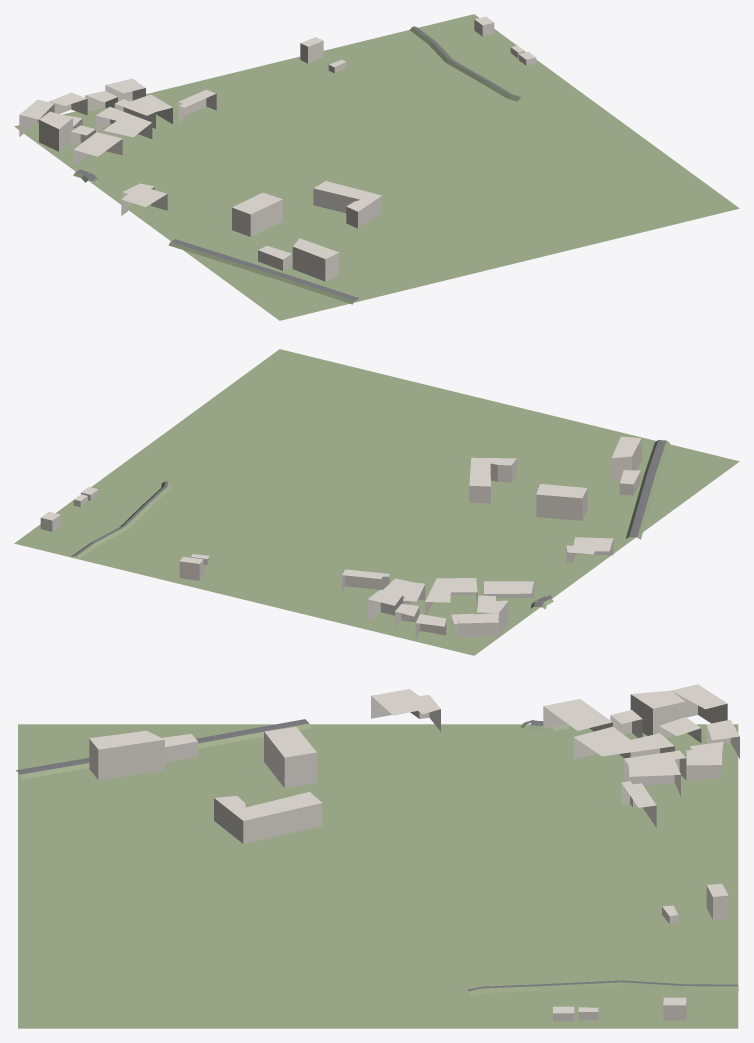
The model's file is dhamrai_chunk_x0_z0.glb.
3 views of the same model, one above another, from view 1: azimuth 30°, elevation 25°; view 2: azimuth 150°, elevation 25°; view 3: azimuth 270°, elevation 25° (orthographic). The views are drawn at different scales.
Visible parts, largest first — view 1: terrain, buildings, embankments, roads; view 2: terrain, buildings, embankments, roads; view 3: terrain, buildings, embankments, roads.
Part boxes in pixels (left/top/right/bottom): terrain: left=14, top=14, right=739, bottom=320; buildings: left=19, top=16, right=536, bottom=281; embankments: left=73, top=27, right=519, bottom=304; roads: left=75, top=26, right=521, bottom=300; terrain: left=14, top=349, right=739, bottom=655; buildings: left=40, top=436, right=641, bottom=639; embankments: left=71, top=440, right=669, bottom=609; roads: left=74, top=440, right=666, bottom=607; terrain: left=18, top=724, right=738, bottom=1028; buildings: left=89, top=684, right=739, bottom=1021; embankments: left=20, top=723, right=738, bottom=995; roads: left=16, top=719, right=738, bottom=991.
Bounding box in the file's own units: 264 × 13.23 × 258.
